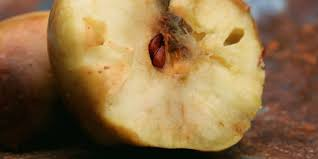damaged_apple: (38, 3, 275, 153)
